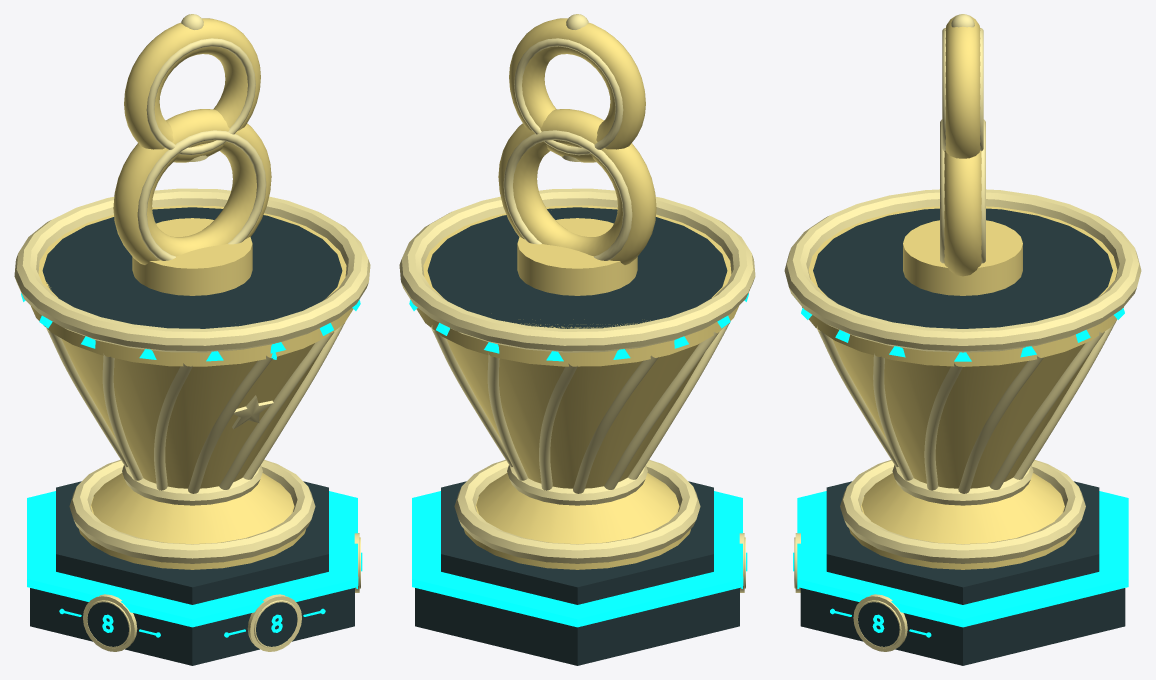
The model's file is crazy8_trophy.glb.
3 renders of one model, left to right at view 1: azimuth 30°, elevation 25°; view 2: azimuth 150°, elevation 25°; view 3: azimuth 270°, elevation 25°, orthographic.
Visible parts, largest first — view 1: Cylinder.009, Chalice_Bowl, Torus.006, Base_Neon_Bevel, Cylinder, Torus.007, Base_Hex_Plinth, Cone, Torus.010, Torus.003, Cylinder.010, Cylinder.008 (+15 smaller); view 2: Cylinder.009, Chalice_Bowl, Torus.006, Base_Hex_Plinth, Base_Neon_Bevel, Cylinder, Torus.007, Cone, Torus.010, Torus.003, Cylinder.010, Cylinder.008 (+10 smaller); view 3: Cylinder.009, Chalice_Bowl, Torus.006, Base_Neon_Bevel, Cylinder, Base_Hex_Plinth, Cone, Torus.003, Cylinder.010, Cylinder.008, Torus.010, Torus.007 (+12 smaller).
Boxes of the visible parts, x1,y1,x2,y2 form: Cylinder.009: (42, 207, 342, 328); Chalice_Bowl: (61, 338, 322, 488); Torus.006: (14, 188, 370, 352); Base_Neon_Bevel: (27, 491, 357, 627); Cylinder: (56, 481, 328, 604); Torus.007: (113, 109, 271, 264); Base_Hex_Plinth: (30, 588, 354, 665); Cone: (91, 473, 293, 544); Torus.010: (124, 18, 260, 162); Torus.003: (69, 459, 315, 563); Cylinder.010: (132, 218, 252, 295); Cylinder.008: (31, 205, 353, 366); Cylinder.009: (427, 207, 727, 328); Chalice_Bowl: (447, 339, 704, 488); Torus.006: (399, 188, 755, 352); Base_Hex_Plinth: (415, 588, 739, 665); Base_Neon_Bevel: (412, 491, 742, 627); Cylinder: (441, 481, 713, 604); Torus.007: (498, 109, 656, 264); Cone: (476, 473, 678, 544); Torus.010: (509, 18, 645, 162); Torus.003: (454, 459, 700, 563); Cylinder.010: (517, 218, 637, 295); Cylinder.008: (416, 205, 738, 366); Cylinder.009: (813, 208, 1112, 328); Chalice_Bowl: (832, 339, 1091, 488); Torus.006: (784, 189, 1141, 352); Base_Neon_Bevel: (797, 491, 1128, 627); Cylinder: (826, 481, 1099, 604); Base_Hex_Plinth: (800, 588, 1125, 665); Cone: (862, 473, 1063, 544); Torus.003: (840, 460, 1085, 563); Cylinder.010: (903, 220, 1022, 295); Cylinder.008: (802, 206, 1123, 366); Torus.010: (945, 15, 980, 158); Torus.007: (944, 150, 981, 276).
Size of the model in its own units: 0.51 by 0.846 by 0.476.
